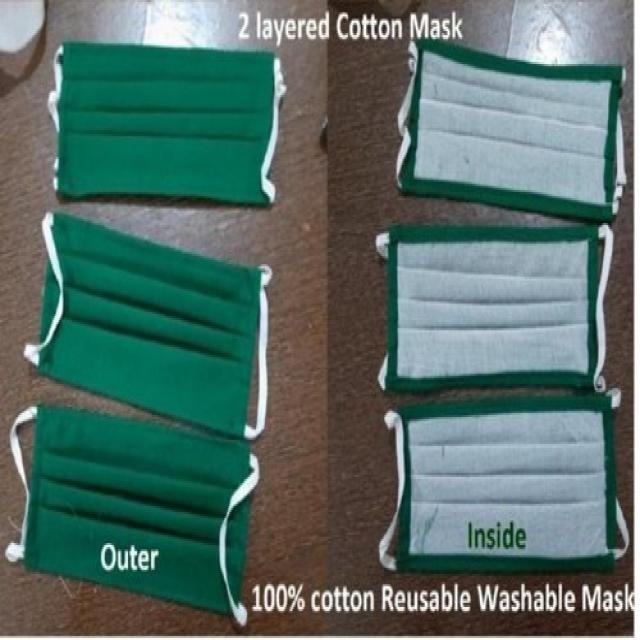non-organic waste: (10, 394, 264, 616), (41, 204, 269, 440), (371, 217, 622, 400), (404, 29, 621, 221), (384, 411, 622, 578), (55, 48, 285, 208)
